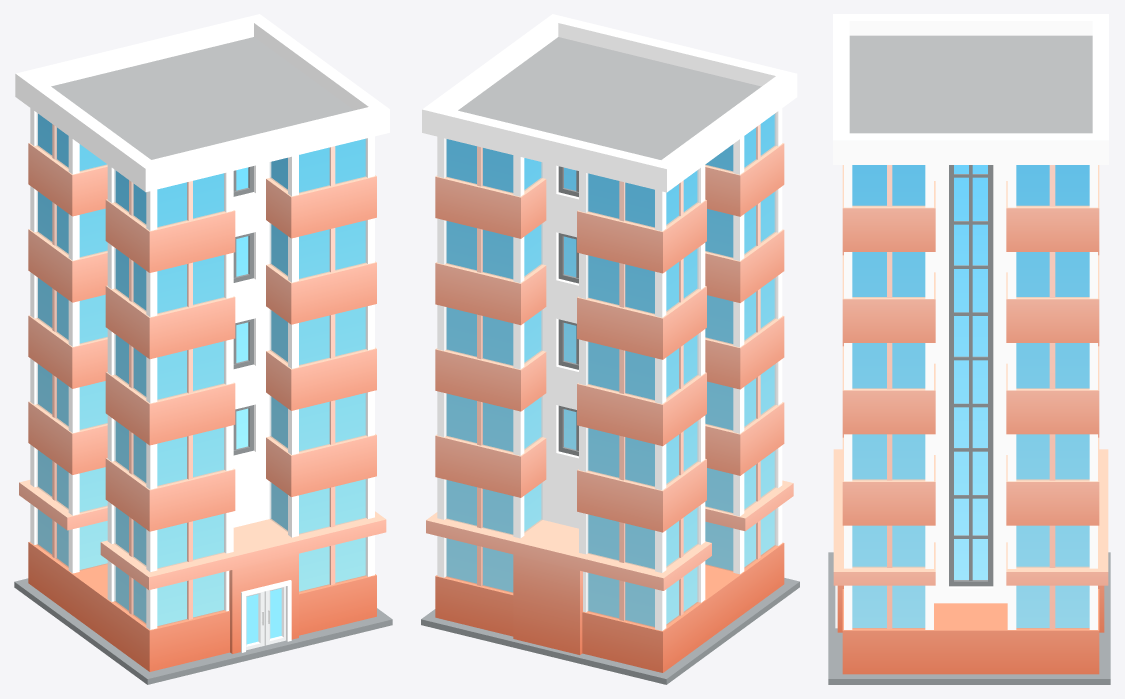
The model's file is city2-building-living-45.glb.
3 renders of one model, left to right at view 1: azimuth 30°, elevation 25°; view 2: azimuth 150°, elevation 25°; view 3: azimuth 270°, elevation 25°, orthographic. The views are drawn at different scales.
Visible parts, largest first — view 1: Building_Living_45; view 2: Building_Living_45; view 3: Building_Living_45.
Part boxes in pixels (<box>): Building_Living_45: <box>14,14,392,684</box>; Building_Living_45: <box>421,14,799,684</box>; Building_Living_45: <box>828,14,1110,684</box>.
Size of the model in its own units: 9.86 by 19.78 by 9.28.
Materials: 2 (2 with a texture image).
